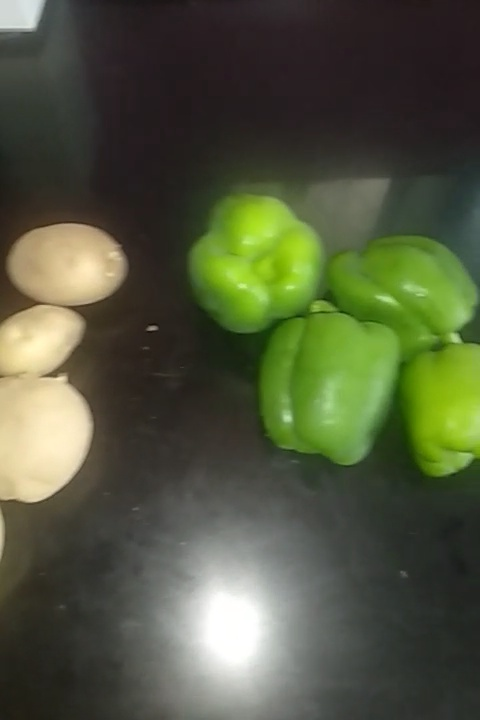capsicum: (261, 304, 404, 456), (185, 195, 330, 341), (324, 235, 479, 343), (387, 335, 480, 467)
potato: (1, 372, 93, 516), (1, 227, 133, 311), (1, 300, 86, 379)
